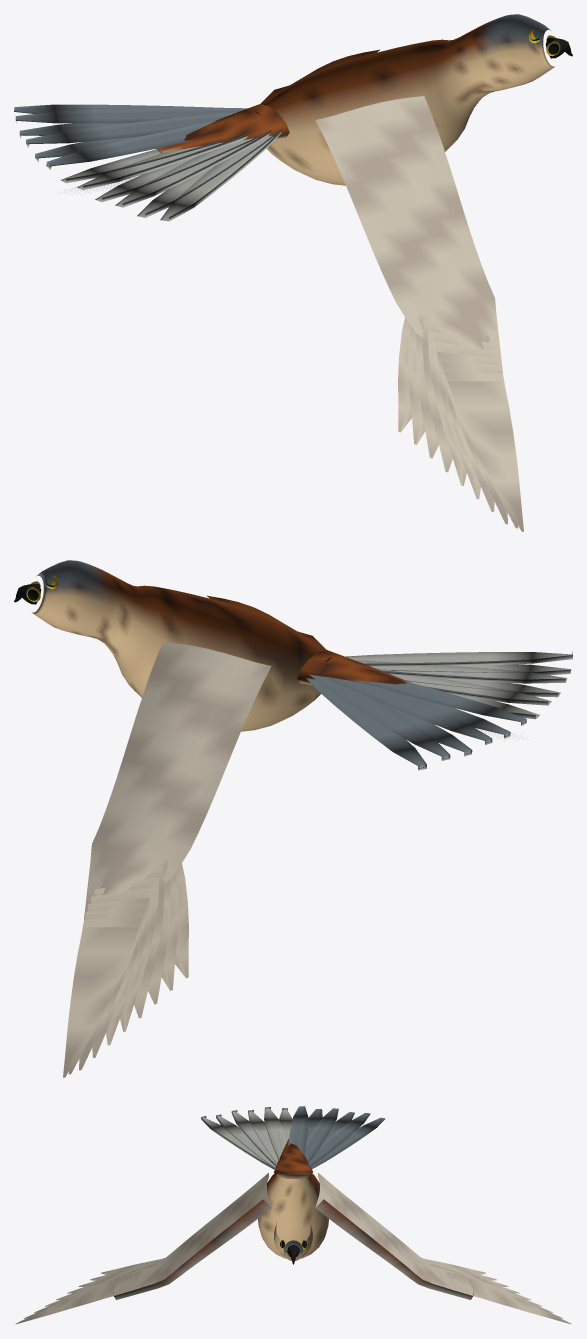
Rendered from SM_Bird_kestrel_flap2.glb.
The picture shows the model from 3 angles, top to bottom: view 1: azimuth 30°, elevation 25°; view 2: azimuth 150°, elevation 25°; view 3: azimuth 270°, elevation 25°; orthographic projection. The views are drawn at different scales.
Parts seen in each view (by area): view 1: SM_Bird_kestrel_flap2; view 2: SM_Bird_kestrel_flap2; view 3: SM_Bird_kestrel_flap2.
Boxes of the visible parts, x1,y1,x2,y2 form: SM_Bird_kestrel_flap2: (14,14,572,531); SM_Bird_kestrel_flap2: (14,560,572,1077); SM_Bird_kestrel_flap2: (15,1106,571,1324).
Bounding box in the file's own units: 0.3789 × 0.2033 × 0.5932.
